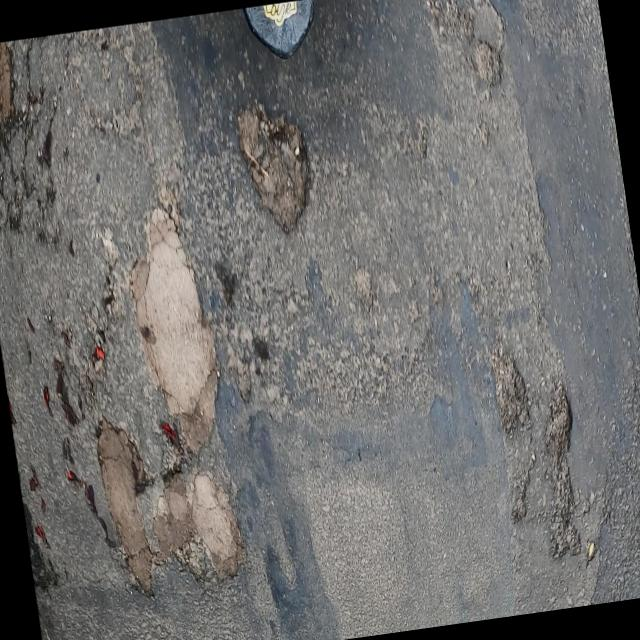Lubang: (236, 104, 308, 232), (545, 381, 581, 558), (492, 351, 529, 435)
